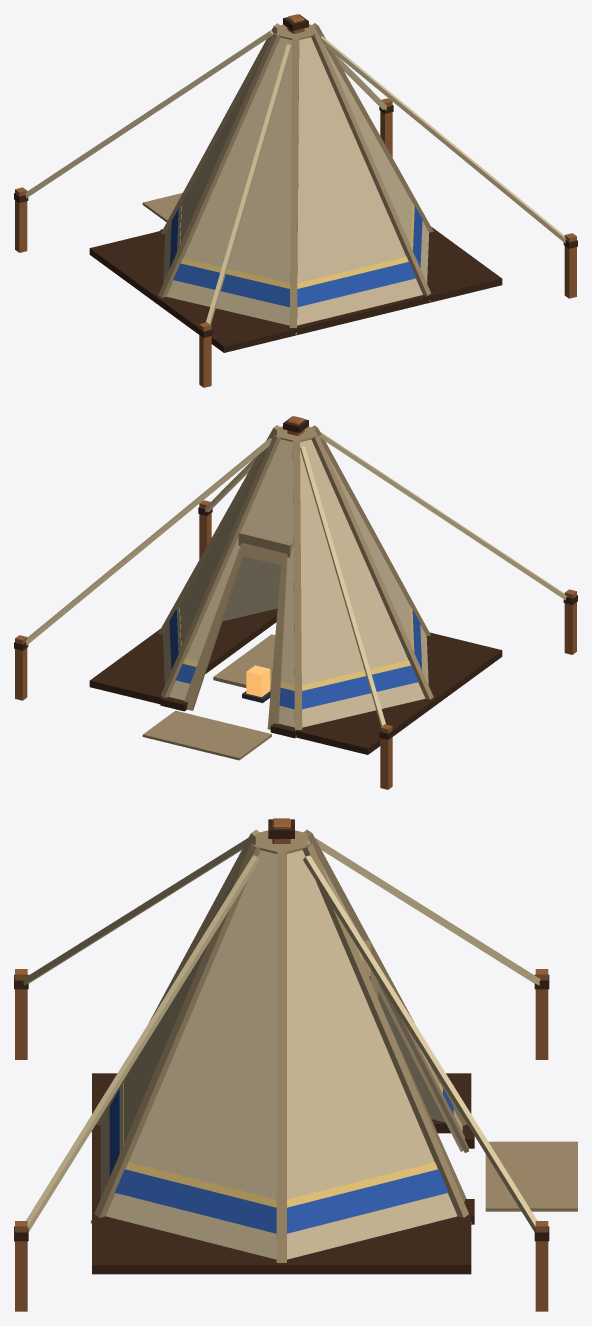
File: 初级帐篷_低模.glb
The picture shows the model from 3 angles, top to bottom: view 1: azimuth 30°, elevation 25°; view 2: azimuth 150°, elevation 25°; view 3: azimuth 270°, elevation 25°; orthographic projection. The views are drawn at different scales.
Visible parts, largest first — view 1: BR-canvas, BR-wood_dark, BR-canvas_dark, BR-site_rope, BR-team, BR-wood_warm, BR-team_trim; view 2: BR-canvas, BR-canvas_dark, BR-wood_dark, BR-site_rope, BR-team, BR-wood_warm, BR-team_trim, BR-glow; view 3: BR-canvas, BR-canvas_dark, BR-wood_dark, BR-site_rope, BR-team, BR-wood_warm, BR-team_trim.
Boxes of the visible parts, x1,y1,x2,y2 form: BR-canvas: (163, 29, 428, 325); BR-wood_dark: (14, 14, 577, 352); BR-canvas_dark: (142, 23, 433, 334); BR-site_rope: (25, 30, 566, 324); BR-team: (169, 206, 422, 307); BR-wood_warm: (15, 14, 576, 387); BR-team_trim: (177, 202, 414, 288); BR-canvas: (163, 431, 428, 727); BR-canvas_dark: (142, 425, 433, 760); BR-wood_dark: (14, 416, 577, 754); BR-site_rope: (25, 432, 566, 726); BR-team: (169, 608, 422, 709); BR-wood_warm: (15, 416, 576, 789); BR-team_trim: (177, 604, 414, 690); BR-glow: (246, 665, 270, 697); BR-canvas: (100, 838, 463, 1259); BR-canvas_dark: (90, 829, 577, 1262); BR-wood_dark: (14, 819, 549, 1274); BR-site_rope: (22, 838, 540, 1231); BR-team: (109, 1088, 453, 1233); BR-wood_warm: (15, 818, 548, 1311); BR-team_trim: (120, 1083, 442, 1207).
Size of the model in its own units: 3.57 by 2.33 by 3.29.
